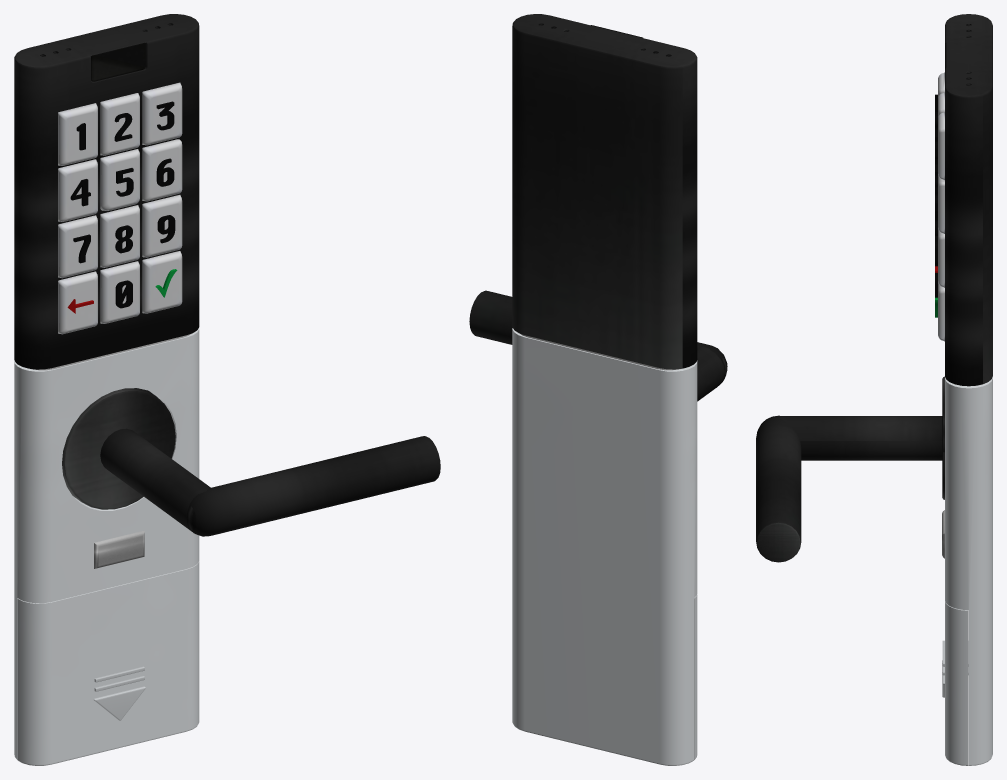
Rendered from doorHandle.glb.
3 views of the same model, side by side, from view 1: azimuth 30°, elevation 25°; view 2: azimuth 150°, elevation 25°; view 3: azimuth 270°, elevation 25° (orthographic). The views are drawn at different scales.
Parts seen in each view (by area): view 1: body_lower2, body_upper7, handle_bar, pCylinder2, handle_stem_thing, pound_key, back_key, one, seven, three, two, nine (+8 smaller); view 2: body_lower2, body_upper7, handle_bar, handle_stem_thing; view 3: body_lower2, body_upper7, handle_stem_thing, handle_bar, three.
Part boxes in pixels (x1,y1,x2,y2): body_lower2: (14,328,199,765); body_upper7: (14,14,199,369); handle_bar: (187,436,440,536); pCylinder2: (62,388,175,509); handle_stem_thing: (100,428,210,530); pound_key: (142,251,182,313); back_key: (58,271,97,334); one: (58,103,97,165); seven: (58,215,97,278); three: (142,82,182,145); two: (100,93,139,155); nine: (142,195,182,257); body_lower2: (512,328,697,765); body_upper7: (512,14,697,369); handle_bar: (469,290,727,387); handle_stem_thing: (697,346,726,401); body_lower2: (945,376,992,765); body_upper7: (945,14,992,386); handle_stem_thing: (779,416,942,460); handle_bar: (756,415,801,562); three: (938,112,944,180).
Size of the model in its own units: 0.0613 by 0.131 by 0.0419.
Materials: 13 (9 with a texture image).
